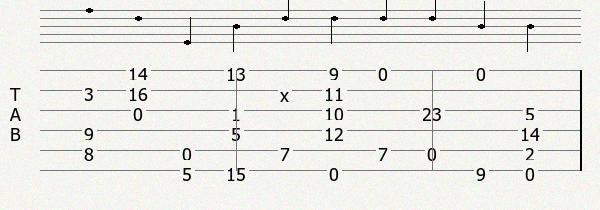0: (133, 102, 147, 119), (182, 142, 196, 159), (329, 162, 343, 179), (378, 62, 392, 79), (427, 142, 441, 159), (476, 62, 490, 79), (525, 162, 539, 179)
1: (231, 102, 245, 119)
10: (324, 102, 348, 119)
11: (324, 82, 348, 99)
12: (324, 122, 348, 139)
13: (226, 62, 250, 79)
14: (128, 62, 152, 79), (520, 122, 544, 139)
15: (226, 162, 250, 179)
16: (128, 82, 152, 99)
2: (525, 142, 539, 159)
23: (422, 102, 446, 119)
3: (84, 82, 98, 99)
5: (182, 162, 196, 179), (231, 122, 245, 139), (525, 102, 539, 119)
7: (280, 142, 294, 159), (378, 142, 392, 159)
8: (84, 142, 98, 159)
9: (84, 122, 98, 139), (329, 62, 343, 79), (476, 162, 490, 179)
x: (280, 83, 293, 97)
